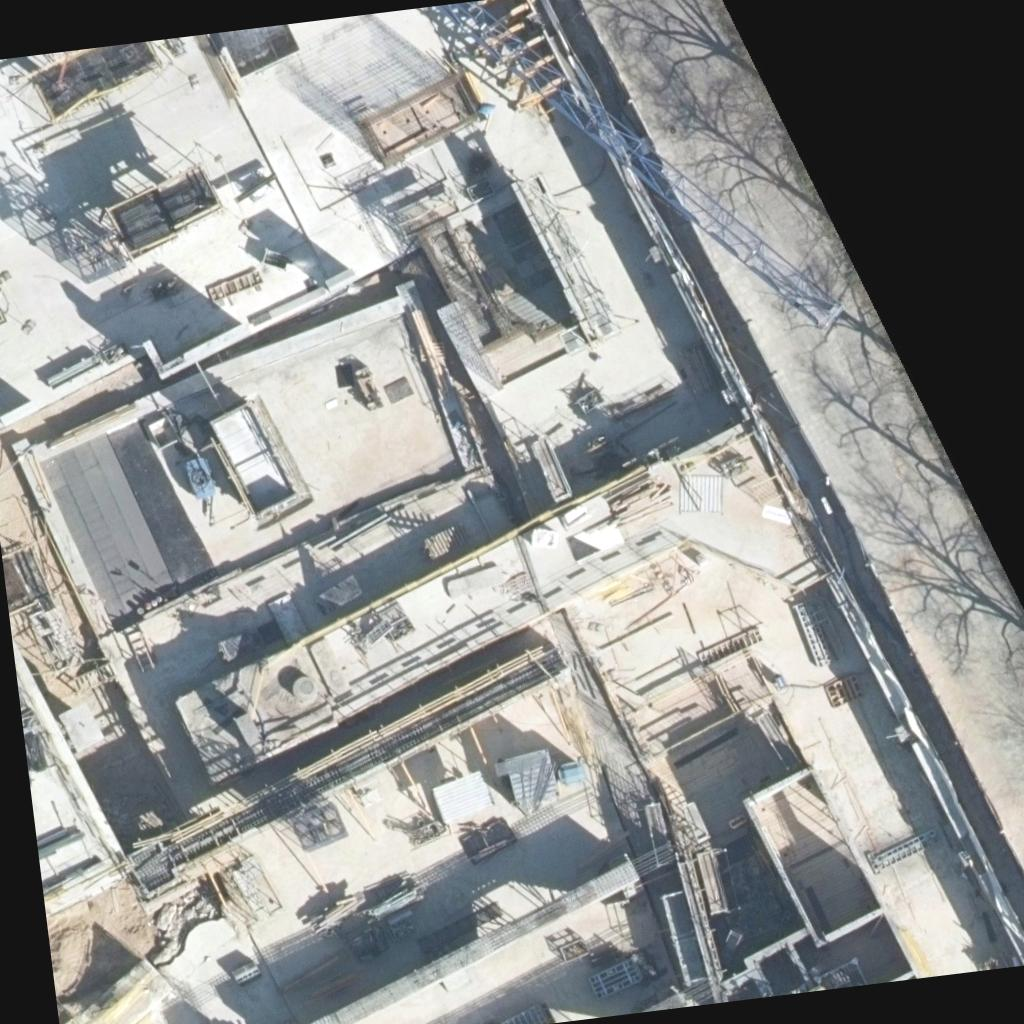zuraw_wiezowy: (435, 0, 844, 371)
